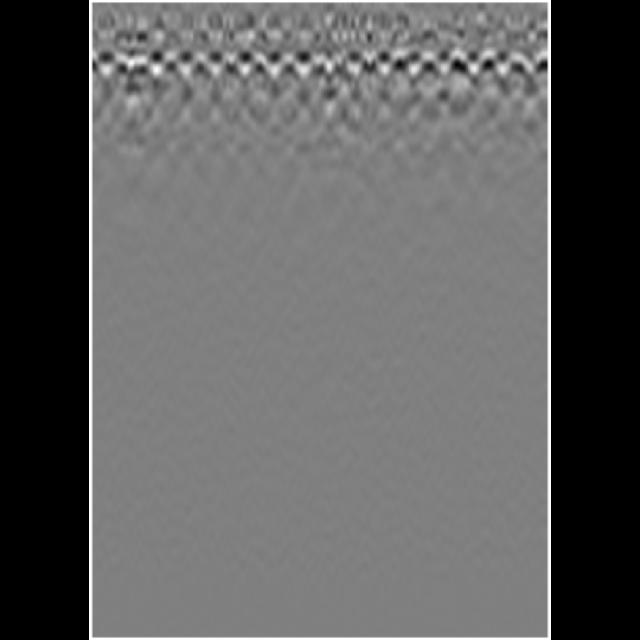hyperbola: (239, 46, 281, 88), (408, 46, 452, 84), (438, 46, 484, 82), (346, 48, 392, 82), (268, 50, 314, 84), (148, 50, 192, 84), (497, 47, 538, 83), (180, 52, 226, 84), (380, 49, 420, 85), (213, 48, 253, 84), (120, 51, 163, 84), (326, 50, 366, 84), (298, 52, 342, 82), (470, 46, 504, 76)
